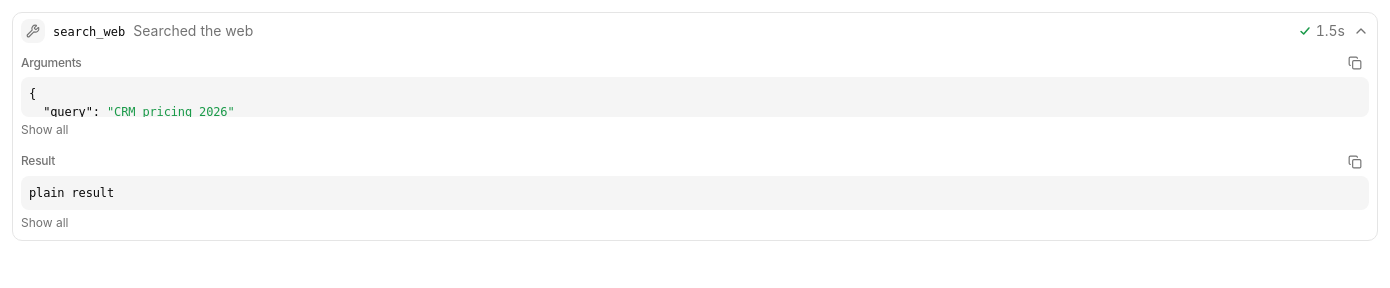
Test case: ToolCallCard › copies arguments and result, and caps tall payloads
The width and height of the screenshot is (1390, 288).
Expected: the text "plain result" is shown, [29, 186, 114, 200]
Expected: the number of buttons "Show all" is 2, [21, 121, 68, 139]; [21, 214, 68, 231]
Click the button named "Copy arguments".
click(1355, 63)  # box [1341, 49, 1369, 77]
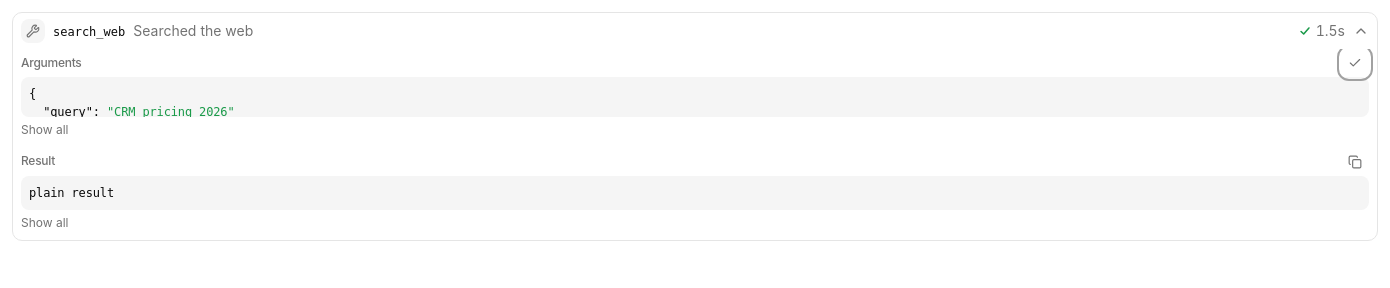
Expected: the button named "Copied" is shown, [1341, 49, 1369, 77]
Click the button "Show all" below "\"query\"".
click(45, 130)  # box [21, 121, 68, 139]
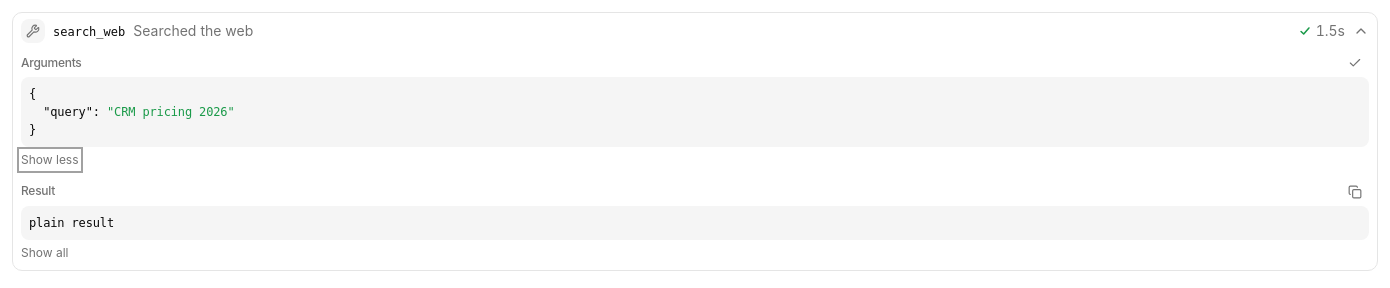
Expected: the button "Show less" is shown, [21, 151, 78, 169]
